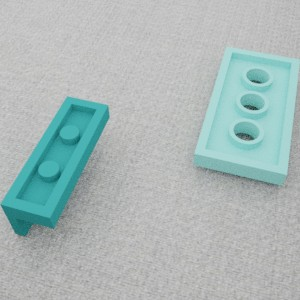lego: (0, 96, 109, 236), (192, 46, 299, 185)
